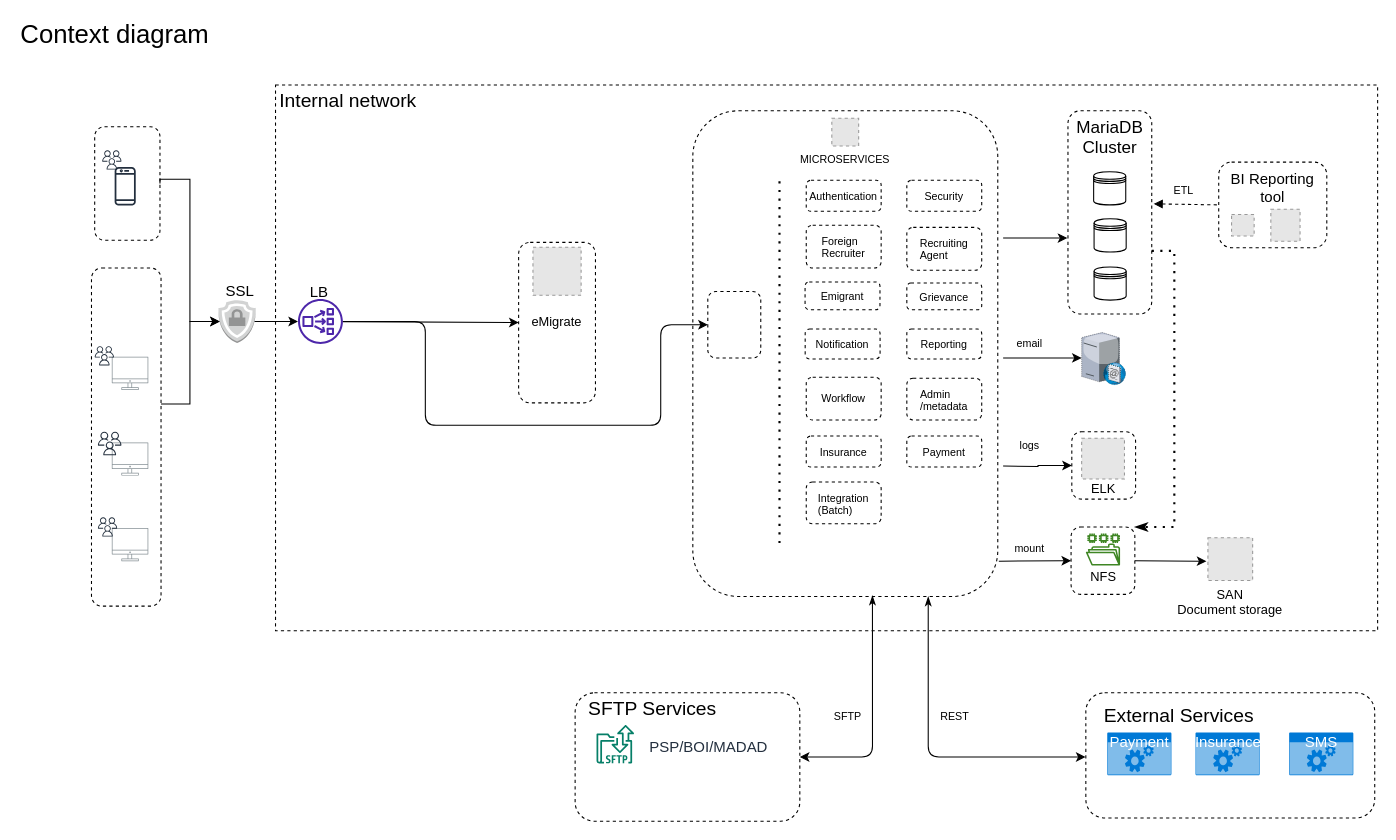
The diagram is 1396 pixels wide and 840 high, and some of its shapes have lost their labels. Grey dashed boxes stand in for pictures. Here are the shapes that lost their labels. From the top down, the centre of each, then its label:
At point (734, 324): "Gateway".
At point (1103, 357): "SMTP".
